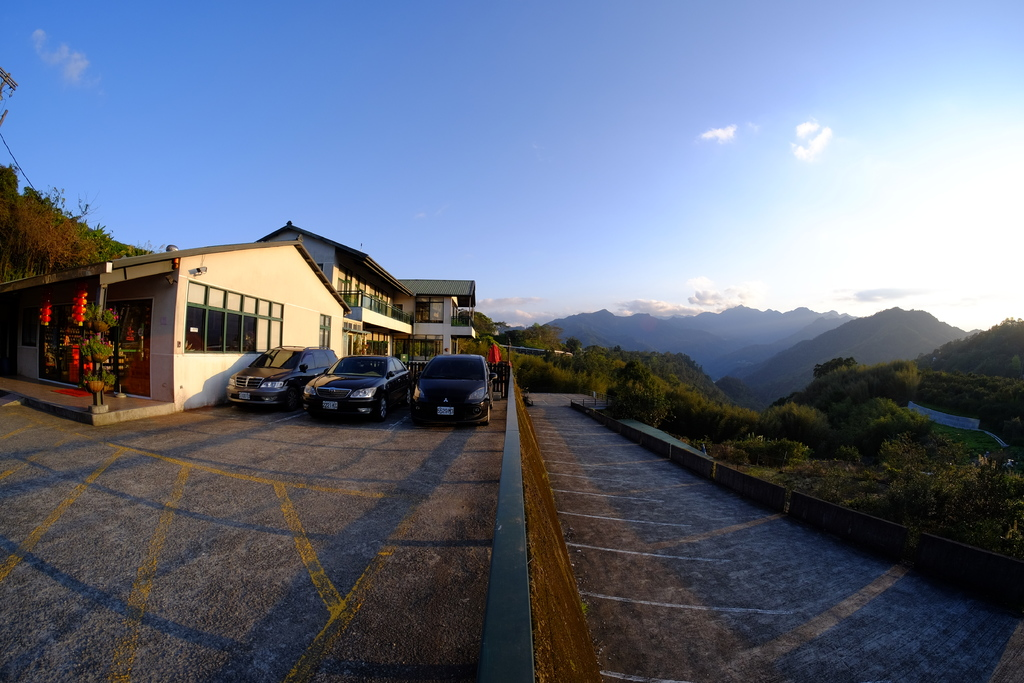car: (298, 346, 410, 439), (220, 339, 339, 416), (404, 341, 501, 431)
